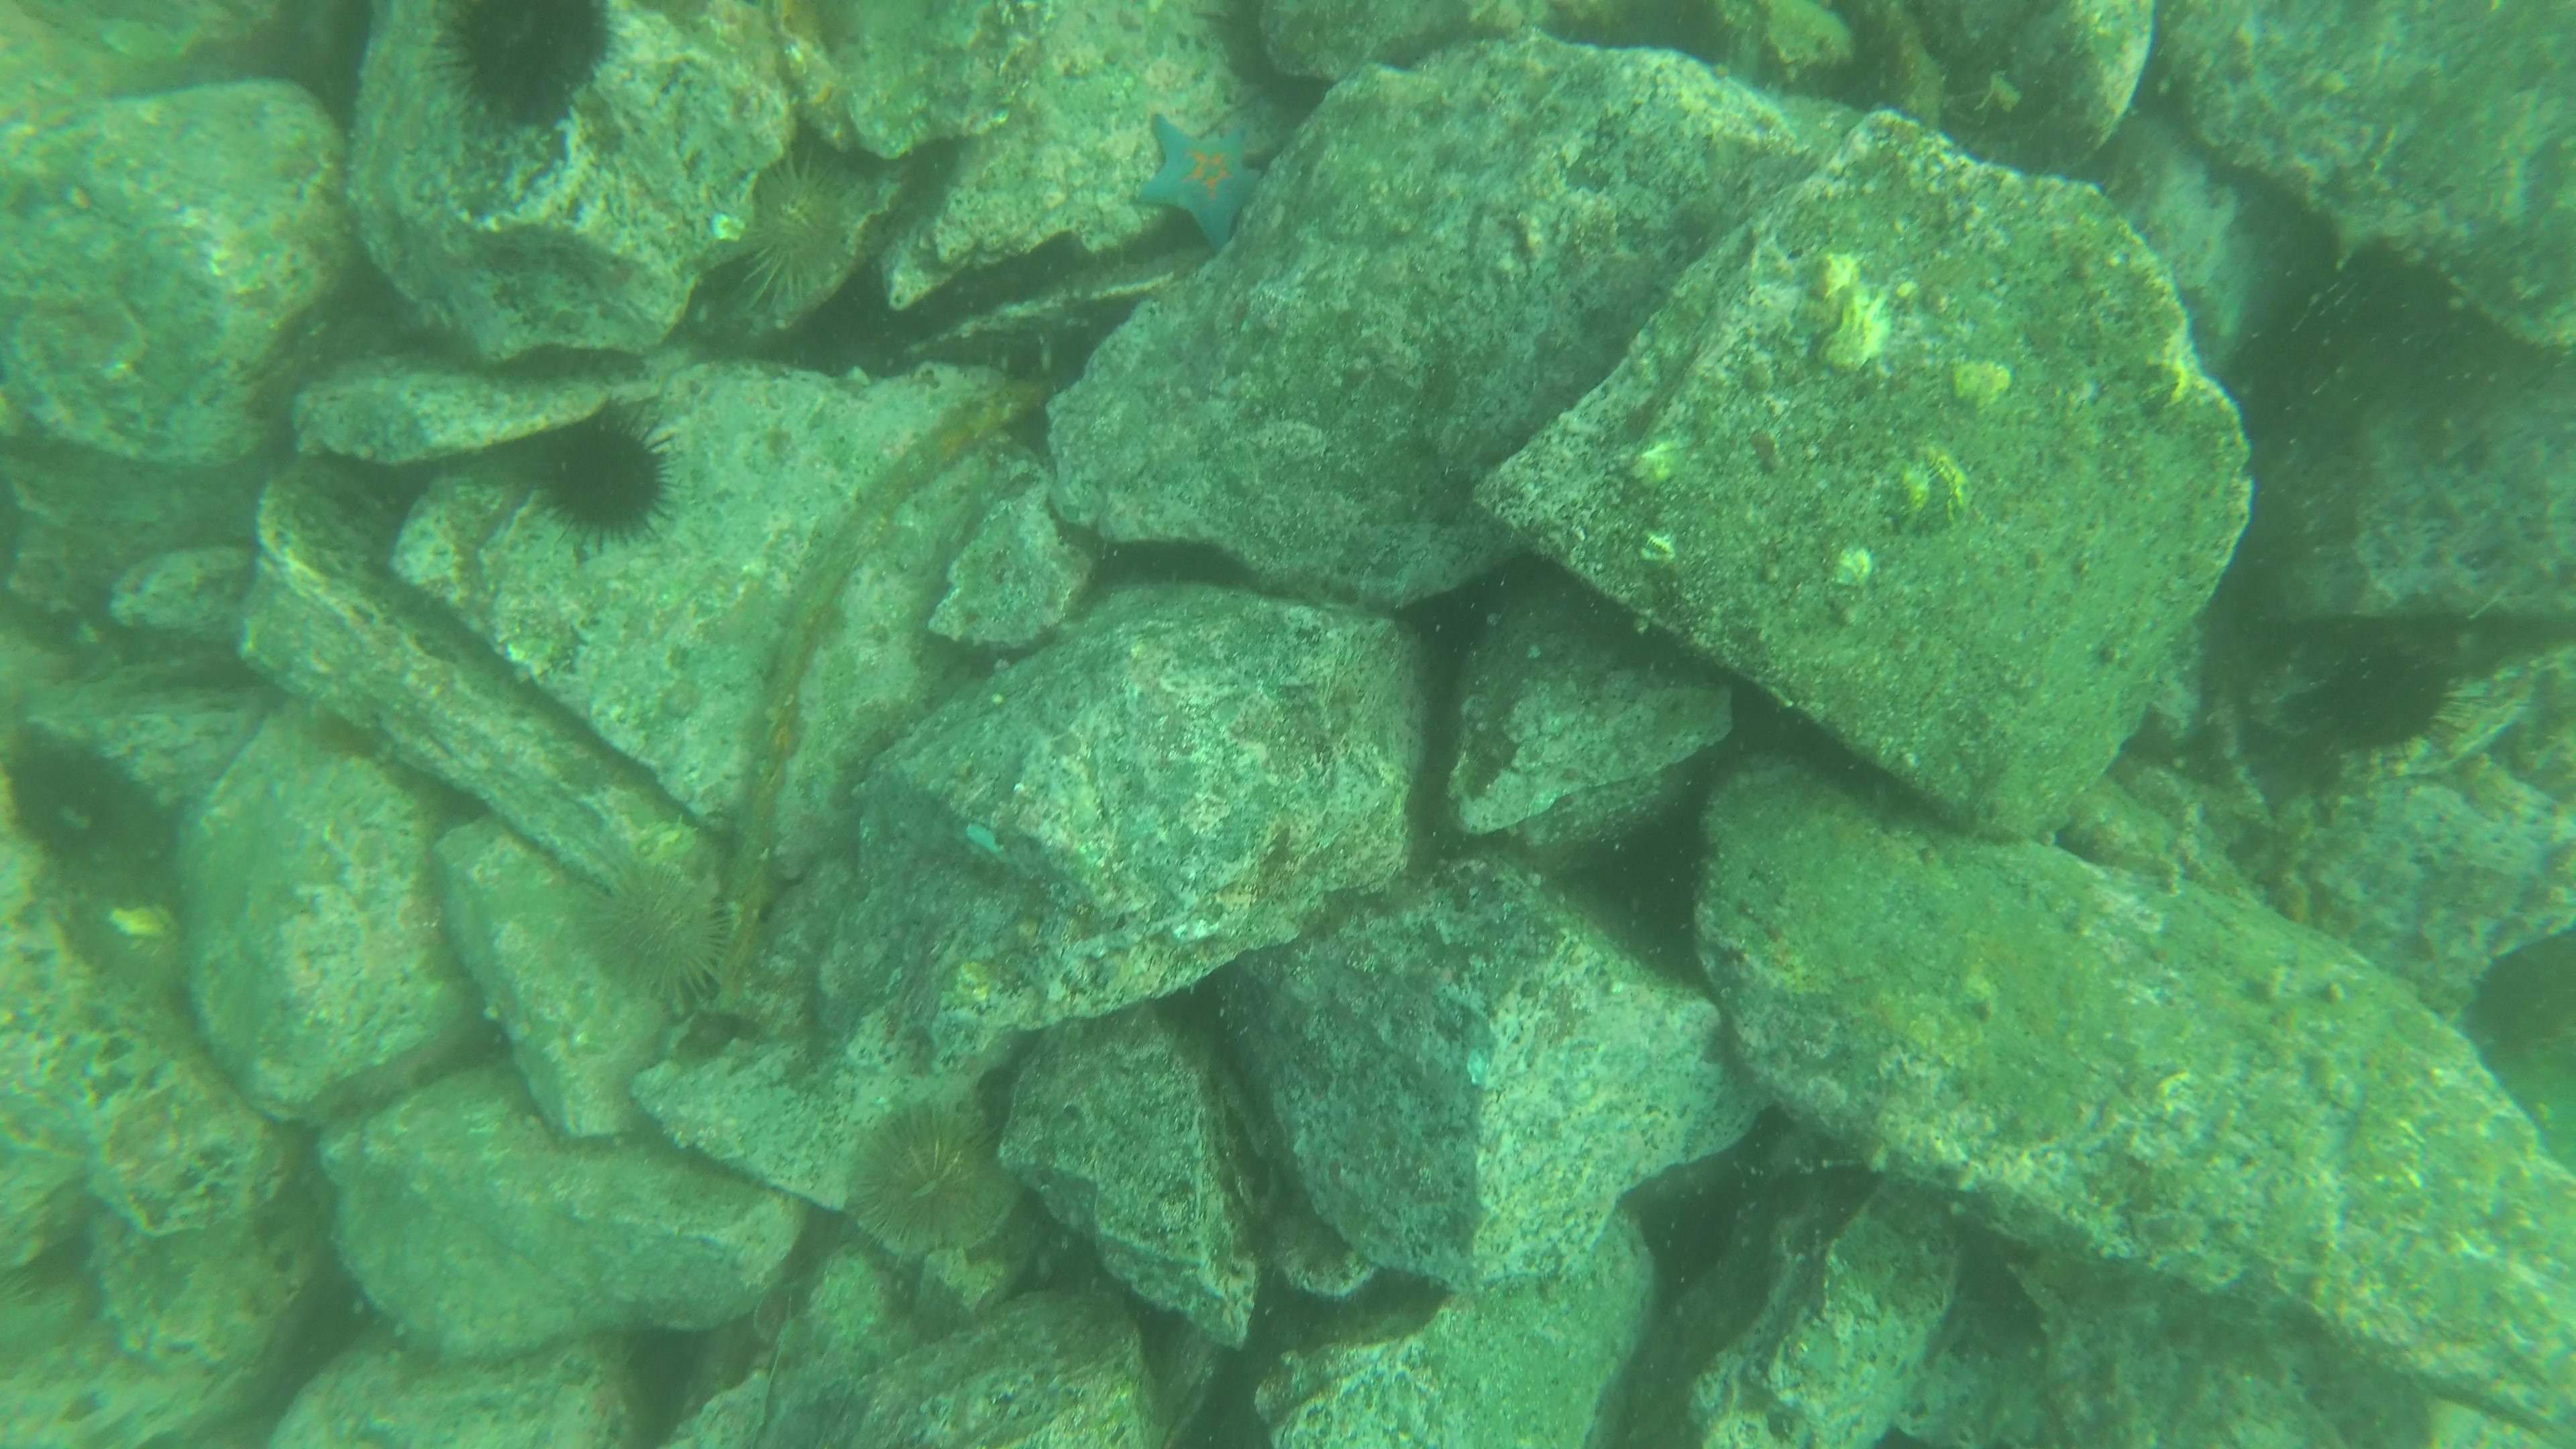echinus: (582, 867, 724, 1014), (724, 157, 856, 313), (872, 1102, 1005, 1251), (453, 4, 609, 122), (533, 416, 662, 540), (2327, 648, 2459, 759), (4, 750, 117, 863)
starfish: (1134, 108, 1269, 241)
